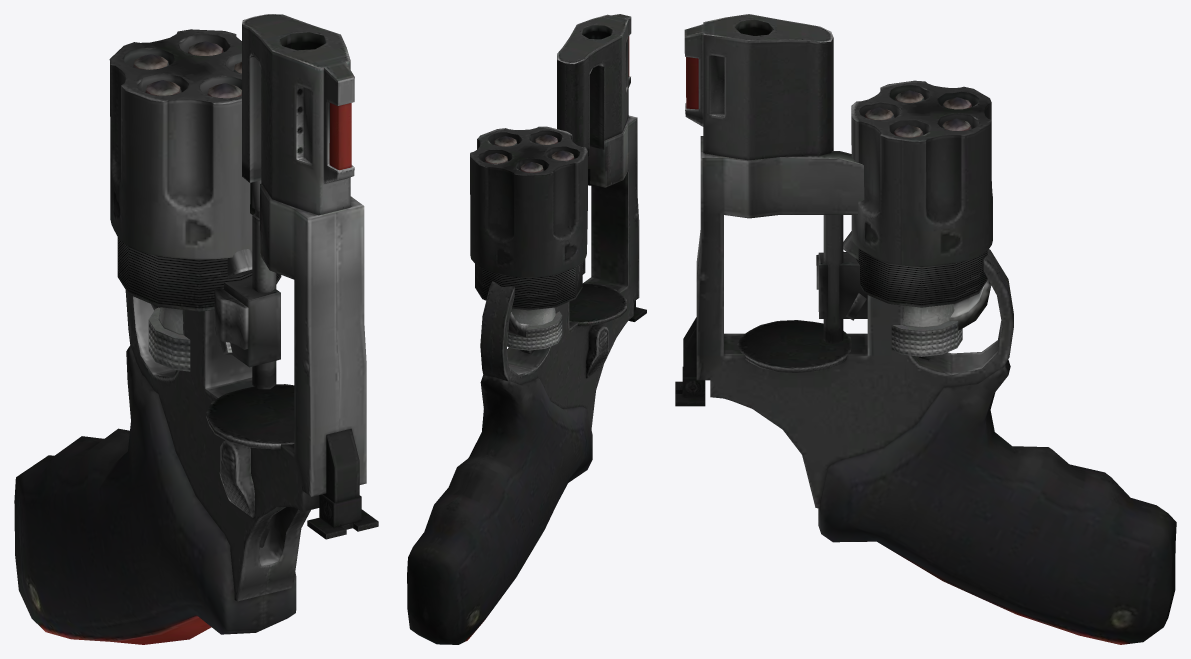
The model's file is Taurus_454SS_2M.obj.
The picture shows the model from 3 angles, left to right: view 1: azimuth 30°, elevation 25°; view 2: azimuth 150°, elevation 25°; view 3: azimuth 270°, elevation 25°; orthographic projection. The views are drawn at different scales.
Parts seen in each view (by area): view 1: Model_taurus454ss8m, Model_Revolver_cylinder, Model_Magazine, Model_Revolver, Model_Bullets, Model_PIN; view 2: Model_taurus454ss8m, Model_Revolver_cylinder, Model_Magazine, Model_Bullets; view 3: Model_taurus454ss8m, Model_Revolver_cylinder, Model_Magazine, Model_Revolver, Model_Bullets.
Boxes of the visible parts, x1,y1,x2,y2 form: Model_taurus454ss8m: [14, 14, 378, 644]; Model_Revolver_cylinder: [109, 29, 252, 259]; Model_Magazine: [117, 237, 281, 371]; Model_Revolver: [214, 180, 280, 389]; Model_Bullets: [133, 41, 241, 98]; Model_PIN: [220, 249, 252, 354]; Model_taurus454ss8m: [407, 14, 646, 644]; Model_Revolver_cylinder: [470, 126, 587, 277]; Model_Magazine: [475, 262, 582, 350]; Model_Bullets: [484, 134, 574, 172]; Model_taurus454ss8m: [675, 14, 1176, 644]; Model_Revolver_cylinder: [851, 80, 992, 266]; Model_Magazine: [856, 248, 987, 356]; Model_Revolver: [816, 215, 867, 343]; Model_Bullets: [864, 90, 971, 137].
Bounding box in the file's own units: 0.0434 × 0.2005 × 0.1496.
Materials: 3 (3 with a texture image).
